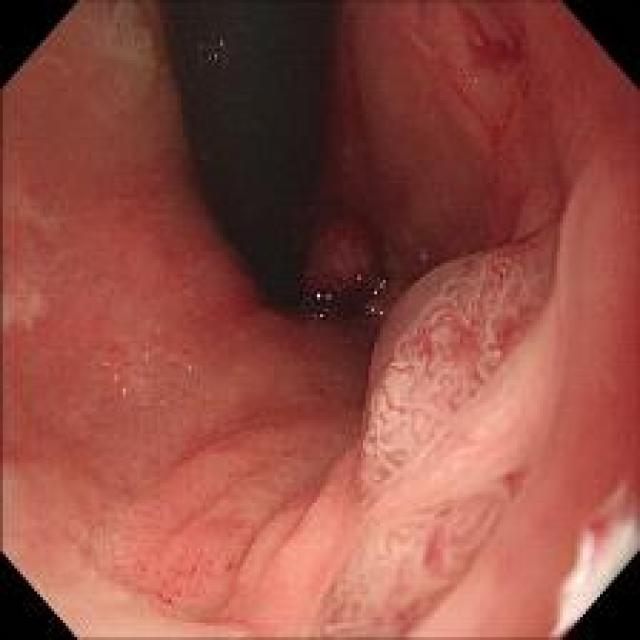color misalignment: (190, 30, 245, 91)
contrast: (161, 6, 350, 324)
specularity: (366, 272, 391, 322), (304, 285, 339, 308), (305, 309, 334, 330), (349, 269, 366, 296)
